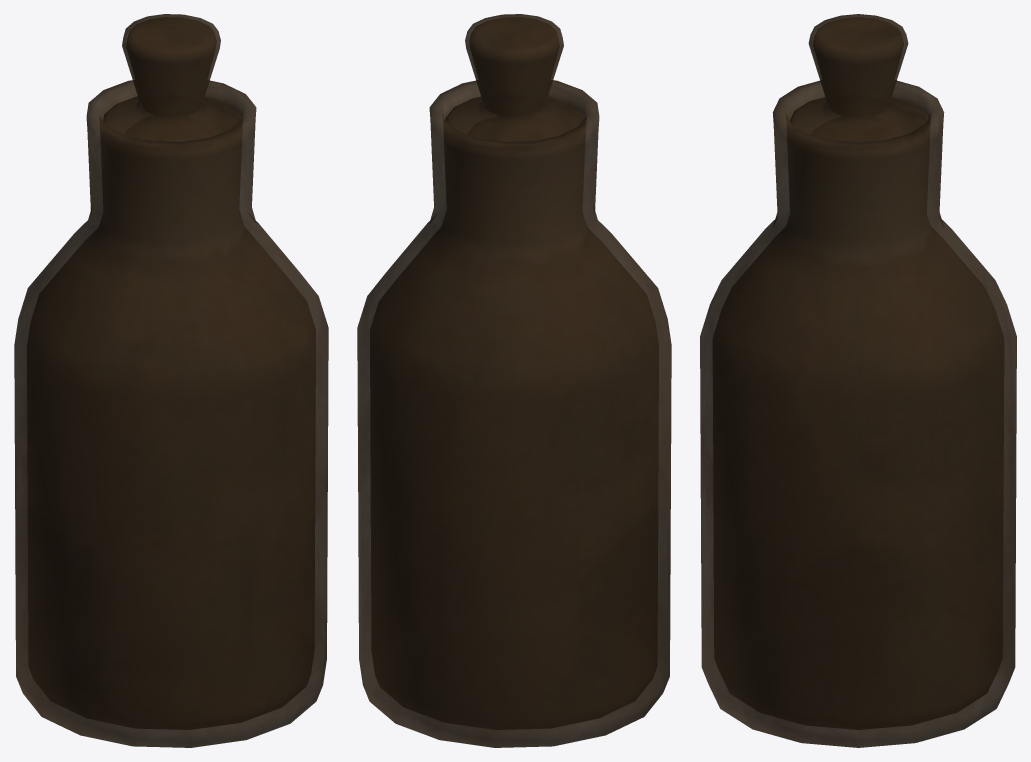
File: bottle_dark_c.glb
The picture shows the model from 3 angles, left to right: view 1: azimuth 30°, elevation 25°; view 2: azimuth 150°, elevation 25°; view 3: azimuth 270°, elevation 25°; orthographic projection.
Parts seen in each view (by area): view 1: chemistry_set_bottle_dark_c.001, chemistry_set_bottle_dark_c_lid.001; view 2: chemistry_set_bottle_dark_c.001, chemistry_set_bottle_dark_c_lid.001; view 3: chemistry_set_bottle_dark_c.001, chemistry_set_bottle_dark_c_lid.001.
Part boxes in pixels (x1=…): chemistry_set_bottle_dark_c.001: x1=14, y1=80, x2=328, y2=747; chemistry_set_bottle_dark_c_lid.001: x1=103, y1=14, x2=240, y2=141; chemistry_set_bottle_dark_c.001: x1=357, y1=80, x2=671, y2=747; chemistry_set_bottle_dark_c_lid.001: x1=445, y1=14, x2=582, y2=141; chemistry_set_bottle_dark_c.001: x1=700, y1=80, x2=1016, y2=747; chemistry_set_bottle_dark_c_lid.001: x1=790, y1=14, x2=926, y2=142.
Size of the model in its own units: 0.0496 by 0.1141 by 0.0496.
1 material, 1 textured.
